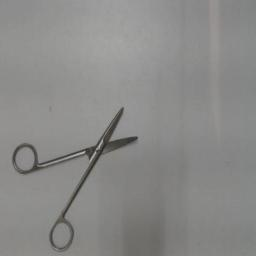Curved Mayo Scissors: (9, 100, 143, 254)
